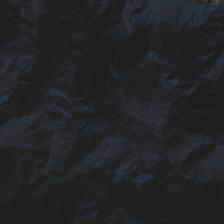landslides: (18, 165, 23, 189)
